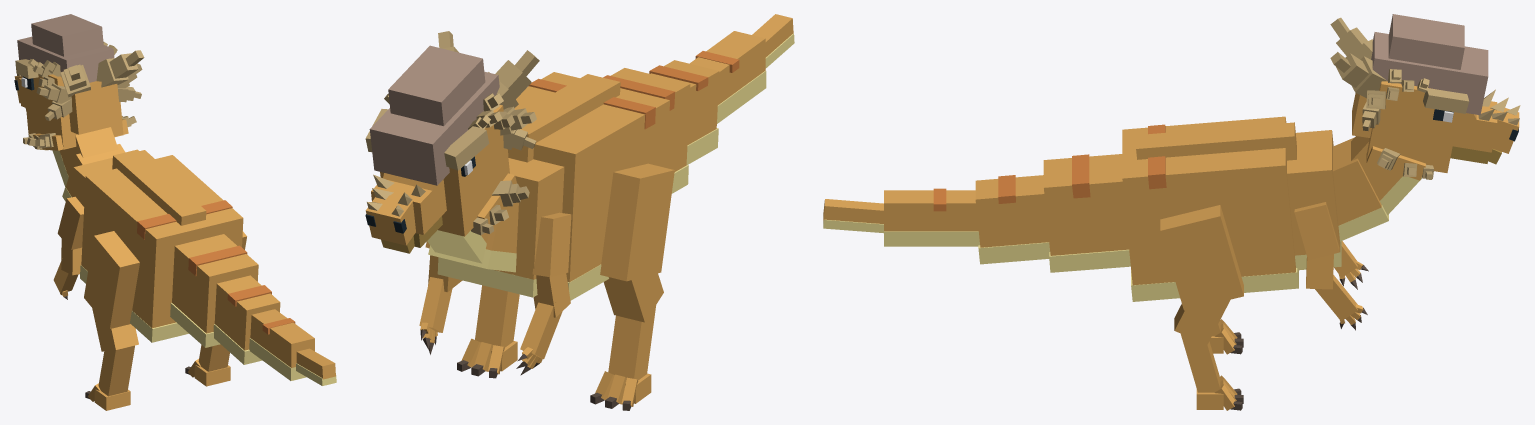
Rendered from pachycephalosaur.obj.
The picture shows the model from 3 angles, left to right: view 1: azimuth 30°, elevation 25°; view 2: azimuth 150°, elevation 25°; view 3: azimuth 270°, elevation 25°; orthographic projection. The views are drawn at different scales.
Visible parts, largest first — view 1: torso, head, tail01, leg_L, tail02, tail03, leg_L_Hand, leg_R_Hand, neck2, tail04, arm_L, leg_L_lower (+3 smaller); view 2: head, torso, leg_L, leg_L_Hand, tail03, leg_R_Hand, tail02, tail01, leg_L_lower, arm_L, arm_L_Hand, arm_R_Hand (+5 smaller); view 3: torso, head, tail01, leg_R, tail02, tail03, neck1, leg_R_Hand, tail04, arm_R, leg_R_lower, neck2 (+5 smaller).
Boxes of the visible parts, left/top/right/bottom form: torso: left=52, top=149, right=243, bottom=342; head: left=14, top=14, right=144, bottom=150; tail01: left=170, top=234, right=258, bottom=347; leg_L: left=84, top=231, right=139, bottom=328; tail02: left=213, top=275, right=280, bottom=364; tail03: left=249, top=309, right=314, bottom=380; leg_L_Hand: left=85, top=345, right=134, bottom=410; leg_R_Hand: left=185, top=344, right=230, bottom=386; neck2: left=59, top=127, right=118, bottom=176; tail04: left=296, top=348, right=336, bottom=385; arm_L: left=57, top=196, right=84, bottom=249; leg_L_lower: left=92, top=308, right=138, bottom=351; head: left=365, top=31, right=539, bottom=245; torso: left=427, top=72, right=669, bottom=300; leg_L: left=600, top=163, right=674, bottom=281; leg_L_Hand: left=590, top=305, right=656, bottom=410; tail03: left=690, top=31, right=766, bottom=123; leg_R_Hand: left=457, top=285, right=519, bottom=378; tail02: left=649, top=60, right=719, bottom=164; tail01: left=603, top=68, right=690, bottom=193; leg_L_lower: left=603, top=273, right=663, bottom=322; arm_L: left=532, top=212, right=571, bottom=277; arm_L_Hand: left=516, top=302, right=562, bottom=375; arm_R_Hand: left=419, top=277, right=452, bottom=354; torso: left=1122, top=116, right=1422, bottom=301; head: left=1330, top=14, right=1520, bottom=180; tail01: left=1043, top=154, right=1130, bottom=272; leg_R: left=1160, top=205, right=1243, bottom=310; tail02: left=975, top=175, right=1050, bottom=264; tail03: left=884, top=188, right=979, bottom=246; neck1: left=1333, top=137, right=1381, bottom=225; leg_R_Hand: left=1181, top=334, right=1243, bottom=410; tail04: left=823, top=199, right=883, bottom=233; arm_R: left=1294, top=202, right=1339, bottom=259; leg_R_lower: left=1174, top=299, right=1230, bottom=344; neck2: left=1351, top=136, right=1402, bottom=200.
Size of the model in its own units: 4.15 by 9.34 by 16.86.
